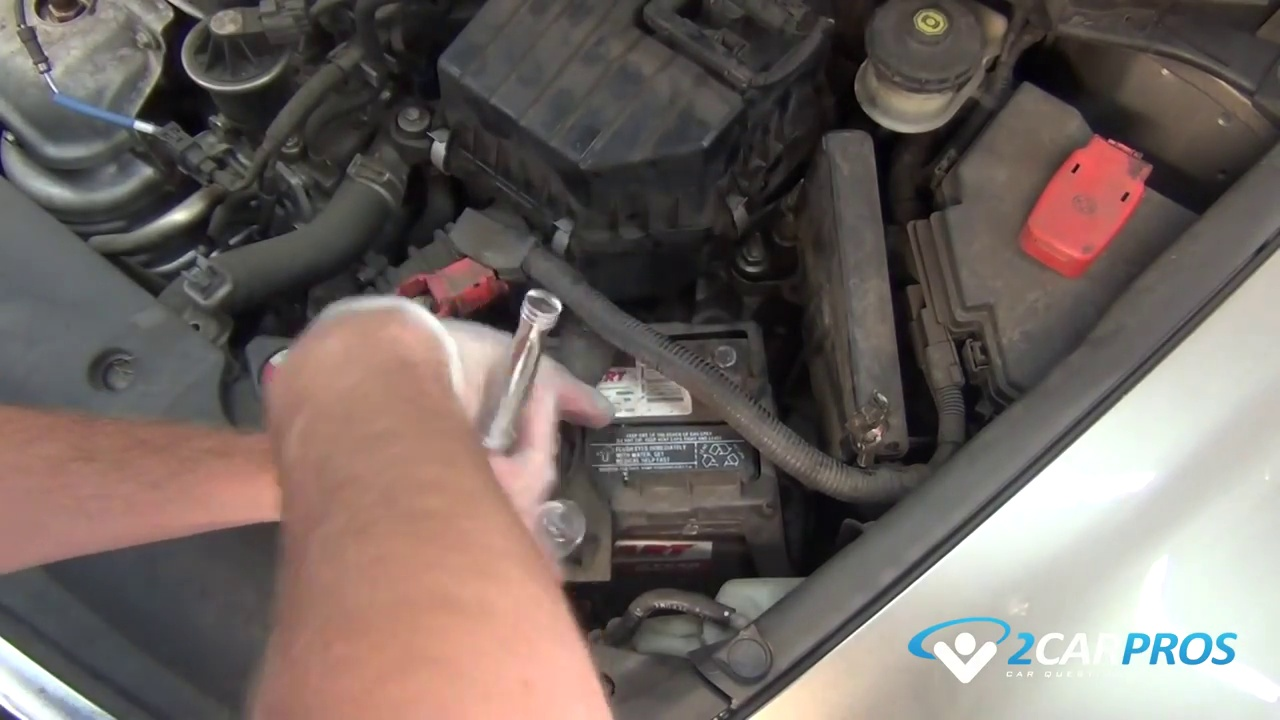battery: (510, 318, 762, 520)
